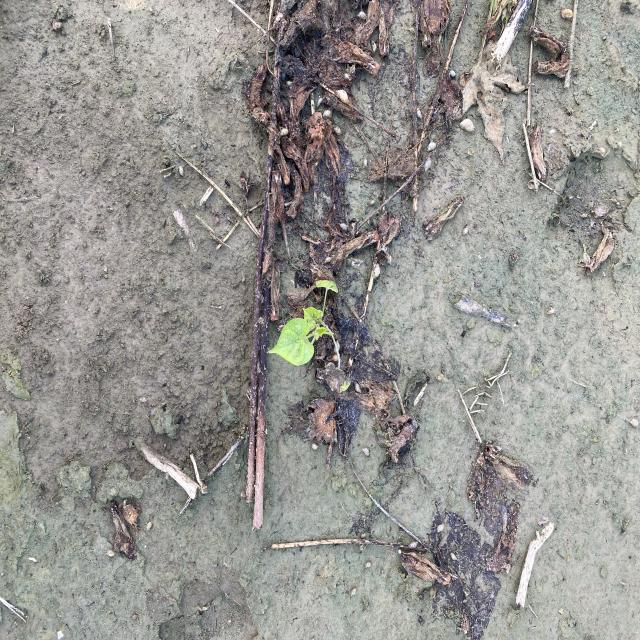MorningGlory: (265, 278, 343, 373)
